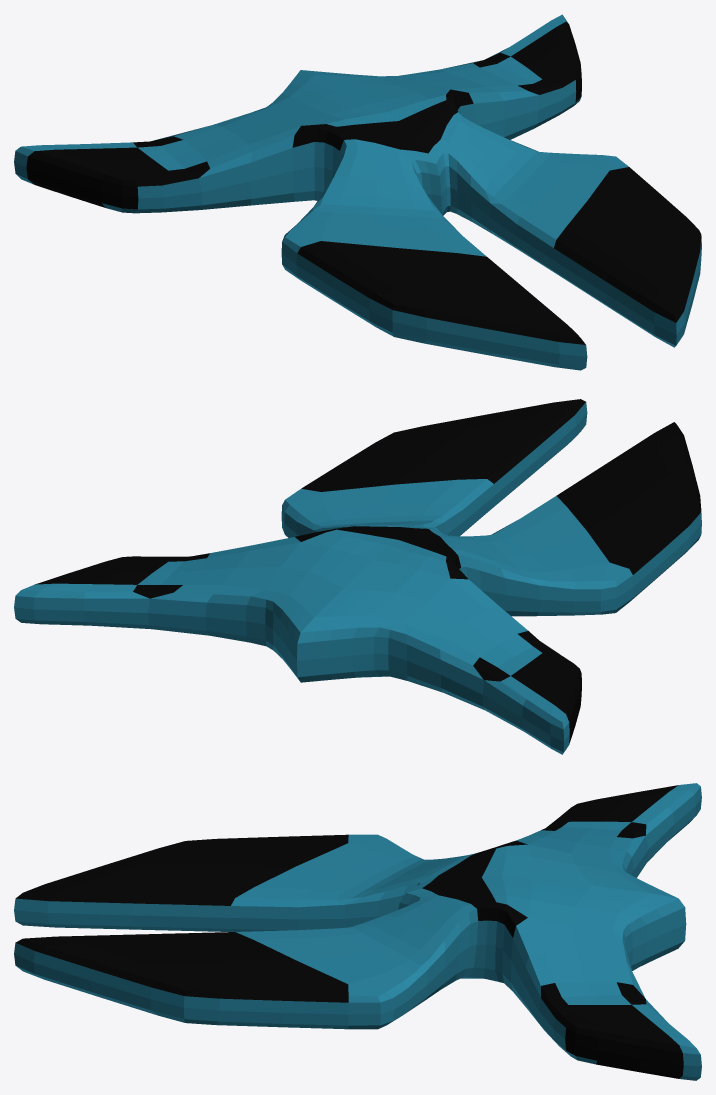
File: SpaceShip.fbx
The picture shows the model from 3 angles, top to bottom: view 1: azimuth 30°, elevation 25°; view 2: azimuth 150°, elevation 25°; view 3: azimuth 270°, elevation 25°; orthographic projection.
Parts seen in each view (by area): view 1: Cube; view 2: Cube; view 3: Cube.
Part boxes in pixels (<box>): Cube: <box>14,14,701,370</box>; Cube: <box>14,399,701,754</box>; Cube: <box>14,783,701,1080</box>.
Size of the model in its own units: 128 by 16.82 by 138.
